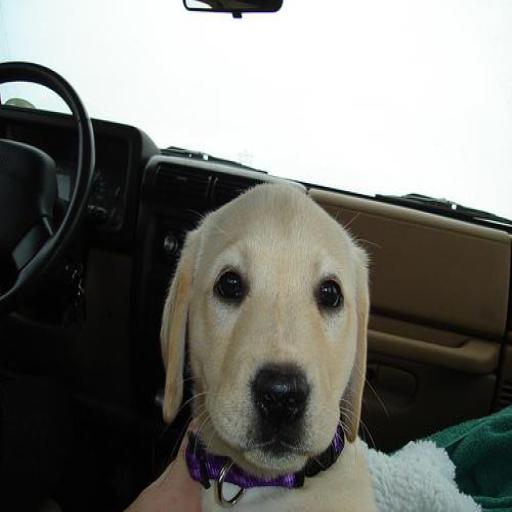dog_face: (162, 184, 368, 451)
